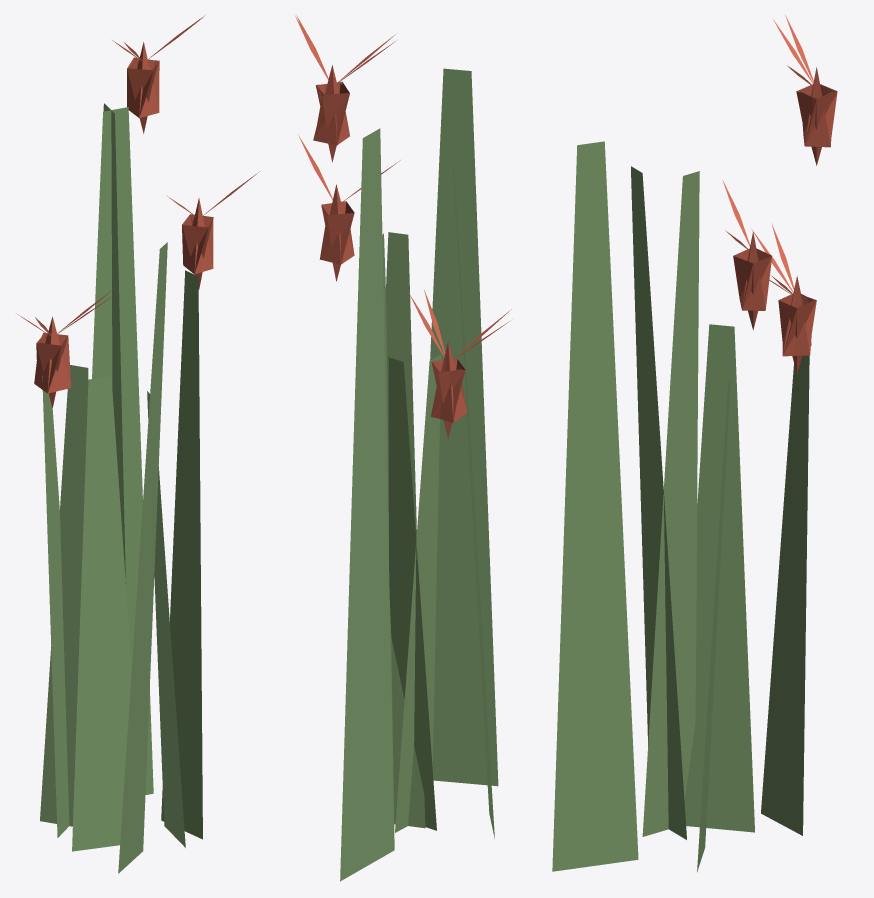
File: shui.pucao@fruiting__spring.glb
3 renders of one model, left to right at view 1: azimuth 30°, elevation 25°; view 2: azimuth 150°, elevation 25°; view 3: azimuth 270°, elevation 25°, orthographic. The views are drawn at different scales.
Visible parts, largest first — view 1: shui.pucao@fruiting__spring; view 2: shui.pucao@fruiting__spring; view 3: shui.pucao@fruiting__spring.
Boxes of the visible parts, x1,y1,x2,y2 form: shui.pucao@fruiting__spring: [16, 15, 259, 873]; shui.pucao@fruiting__spring: [295, 15, 511, 881]; shui.pucao@fruiting__spring: [552, 15, 837, 872].
Bounding box in the file's own units: 0.7192 × 2.36 × 0.7877.
